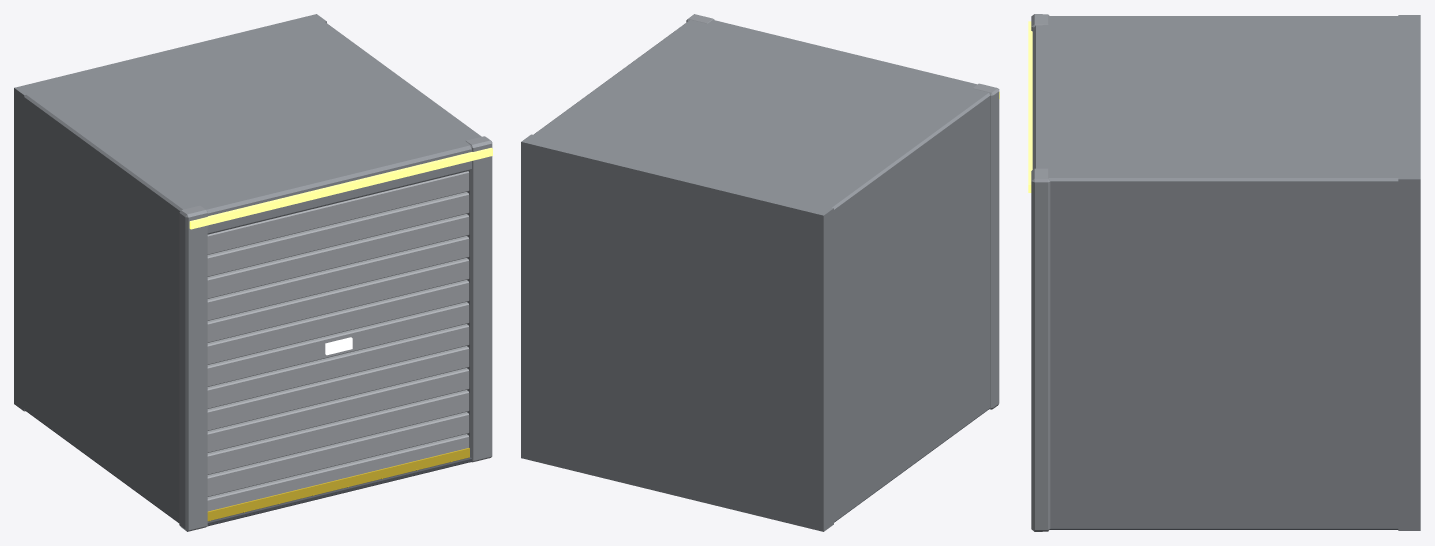
File: rb_station_custodian.glb
3 renders of one model, left to right at view 1: azimuth 30°, elevation 25°; view 2: azimuth 150°, elevation 25°; view 3: azimuth 270°, elevation 25°, orthographic. The views are drawn at different scales.
Visible parts, largest first — view 1: rb_station_custodian, shutter; view 2: rb_station_custodian; view 3: rb_station_custodian.
Boxes of the visible parts, bbox=[...] form: rb_station_custodian: bbox=[14, 14, 492, 531]; shutter: bbox=[207, 171, 469, 521]; rb_station_custodian: bbox=[521, 14, 999, 531]; rb_station_custodian: bbox=[1028, 14, 1420, 531].
Size of the model in its own units: 3.56 by 3.52 by 3.54.
